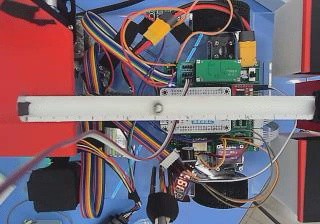ironball: (152, 102, 162, 112)
